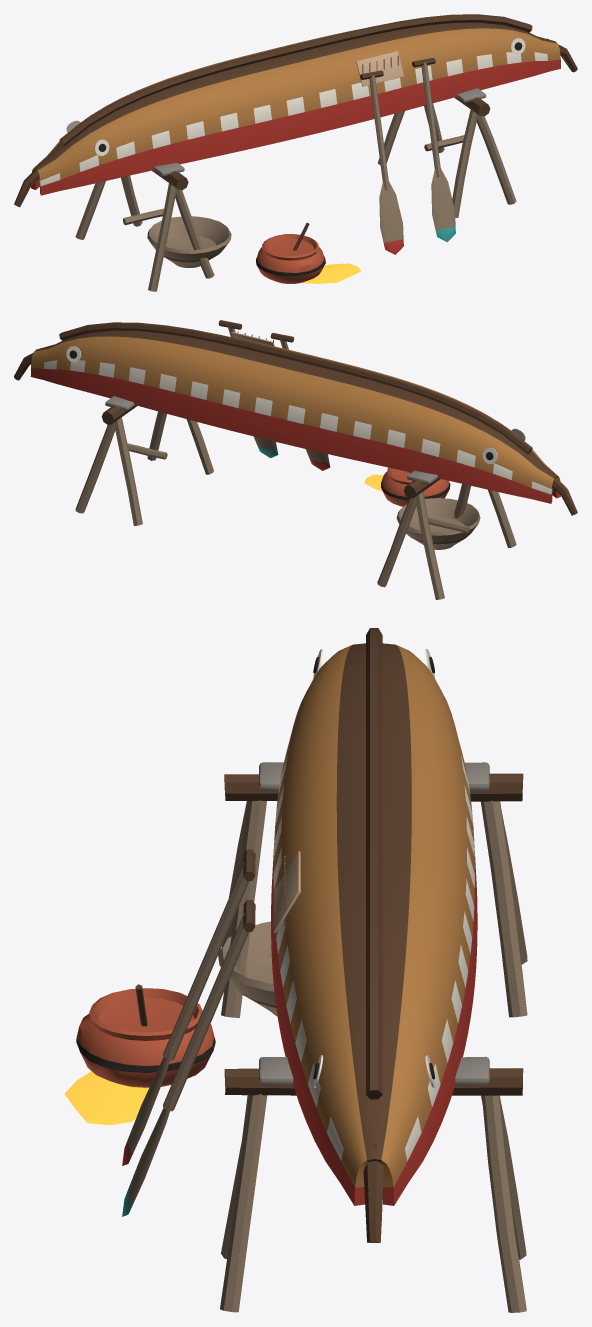
The model's file is deco_canoe_trestle.fbx.
3 views of the same model, one above another, from view 1: azimuth 30°, elevation 25°; view 2: azimuth 150°, elevation 25°; view 3: azimuth 270°, elevation 25° (orthographic). The views are drawn at different scales.
Visible parts, largest first — view 1: Canoe_Trestle_Canoe, Canoe_Trestle_Trestles, Canoe_Trestle_Repair, Canoe_Trestle_Paddles; view 2: Canoe_Trestle_Canoe, Canoe_Trestle_Trestles, Canoe_Trestle_Repair, Canoe_Trestle_Paddles; view 3: Canoe_Trestle_Canoe, Canoe_Trestle_Trestles, Canoe_Trestle_Repair, Canoe_Trestle_Paddles.
Part boxes in pixels (left/top/right/bottom): Canoe_Trestle_Canoe: left=14, top=14, right=577, bottom=207; Canoe_Trestle_Trestles: left=75, top=88, right=516, bottom=291; Canoe_Trestle_Repair: left=147, top=216, right=360, bottom=283; Canoe_Trestle_Paddles: left=360, top=57, right=455, bottom=254; Canoe_Trestle_Canoe: left=14, top=322, right=577, bottom=515; Canoe_Trestle_Trestles: left=75, top=396, right=516, bottom=599; Canoe_Trestle_Repair: left=364, top=467, right=480, bottom=549; Canoe_Trestle_Paddles: left=218, top=320, right=330, bottom=470; Canoe_Trestle_Canoe: left=271, top=628, right=477, bottom=1242; Canoe_Trestle_Trestles: left=220, top=762, right=527, bottom=1312; Canoe_Trestle_Repair: left=64, top=921, right=277, bottom=1125; Canoe_Trestle_Paddles: left=122, top=849, right=255, bottom=1216.
Bounding box in the file's own units: 541 × 162 × 193.
